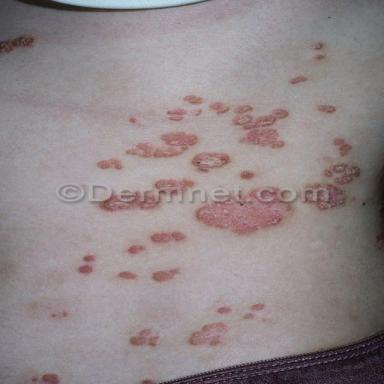Psoriasis: (196, 202, 290, 233), (233, 105, 289, 149), (126, 132, 197, 157), (189, 323, 229, 346), (324, 163, 360, 185), (192, 152, 229, 172), (0, 36, 35, 53), (130, 329, 159, 347), (167, 108, 202, 121), (151, 231, 185, 244), (29, 373, 61, 384), (152, 269, 179, 282), (333, 139, 352, 157), (244, 303, 265, 319), (97, 158, 122, 169), (209, 102, 229, 114), (184, 95, 203, 104), (317, 104, 336, 113), (128, 245, 145, 254), (119, 271, 137, 279), (289, 76, 307, 84), (78, 265, 92, 274), (240, 170, 254, 179), (217, 307, 232, 314), (83, 255, 95, 262), (313, 43, 323, 50), (315, 54, 325, 60)
